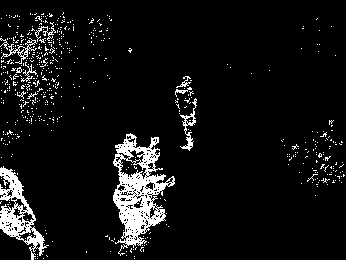person: (174, 71, 204, 153)
